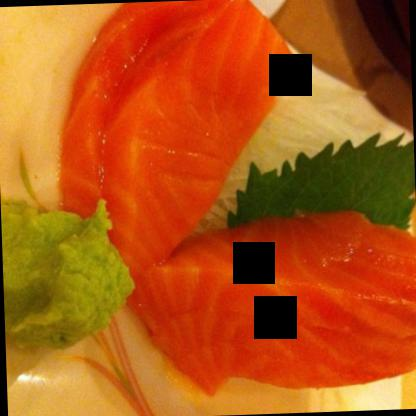salmon: (54, 0, 313, 297), (126, 215, 415, 404)
